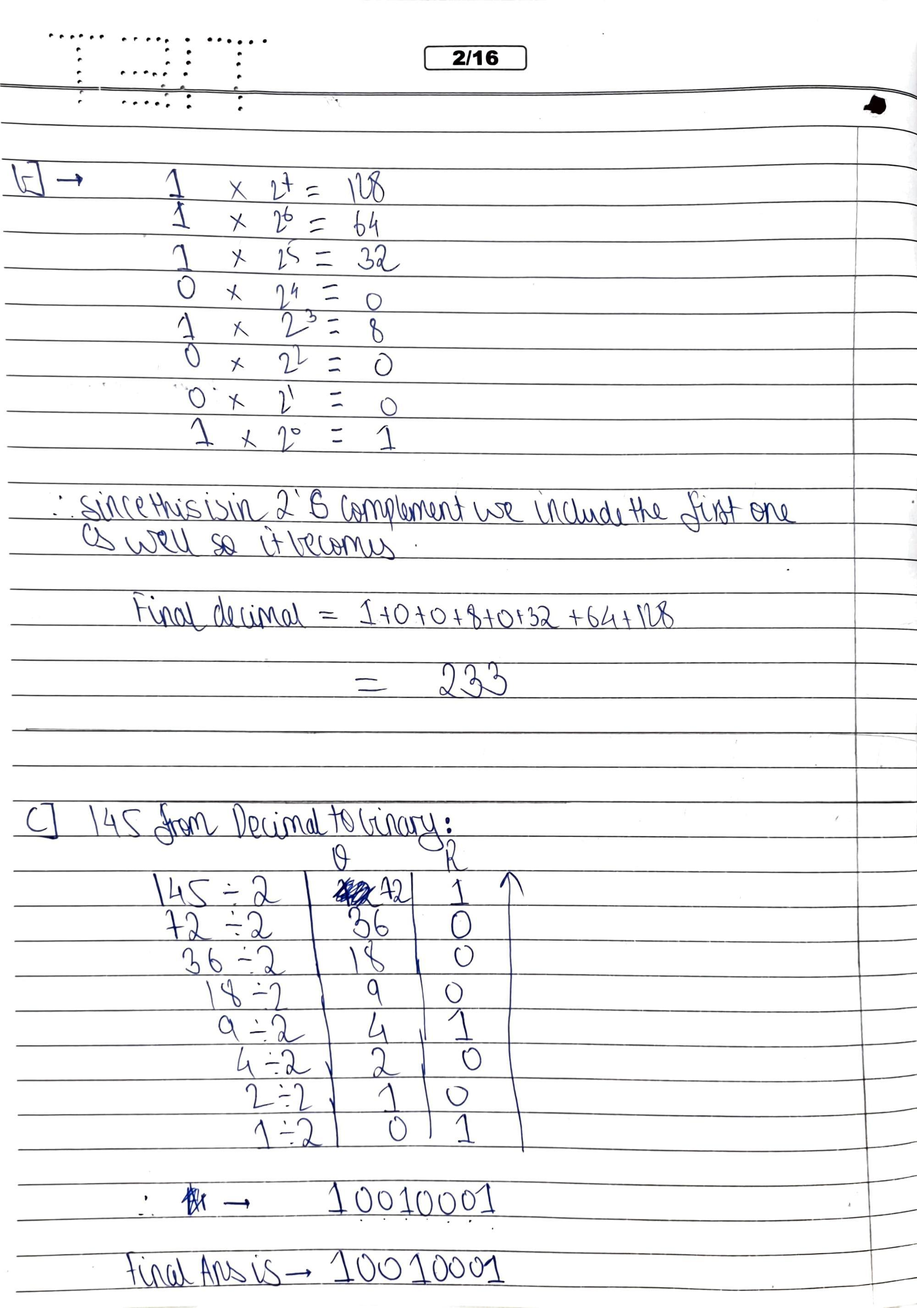cuttings: (331, 876, 385, 909), (179, 1180, 209, 1218)
